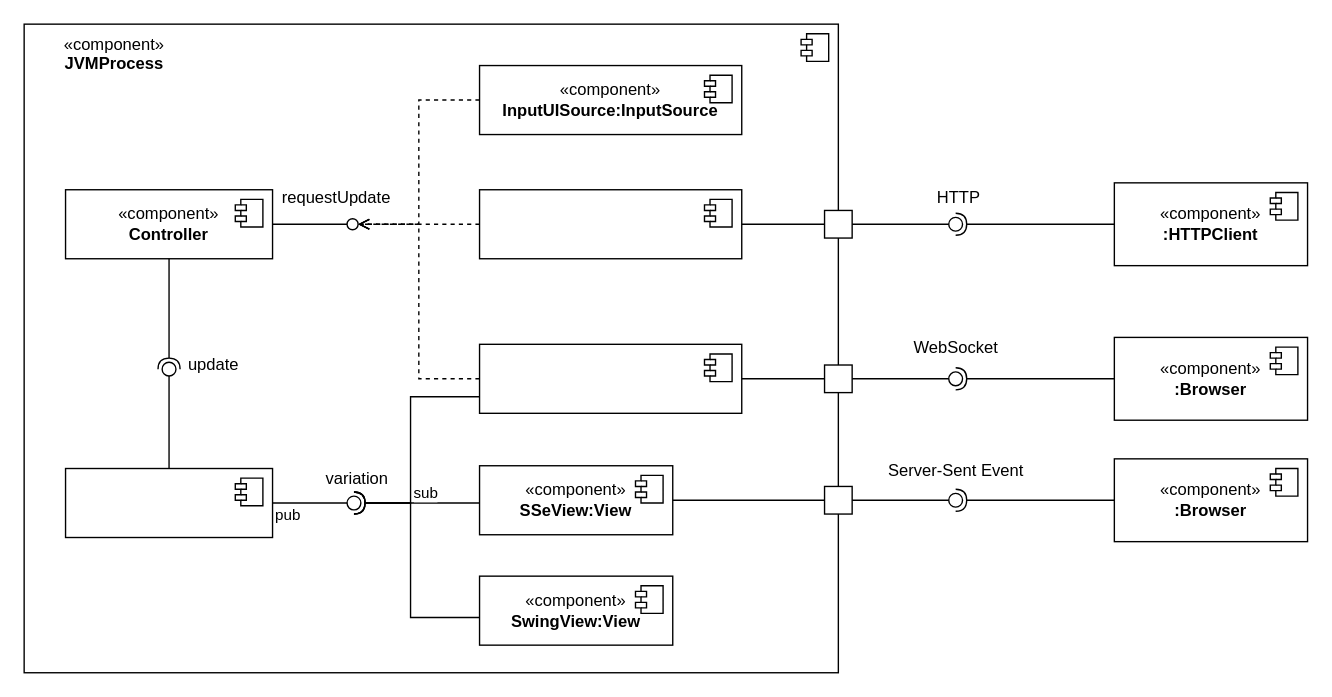
Image size: 1332x697. Some labels were removed from this diagram. Each missing label, with the centre of its shape:
"«component» Model" belongs at [168,502].
"«component» REstSource:InputSource" belongs at [610,223].
"«component» WSViewSource:View&Source" belongs at [610,378].
